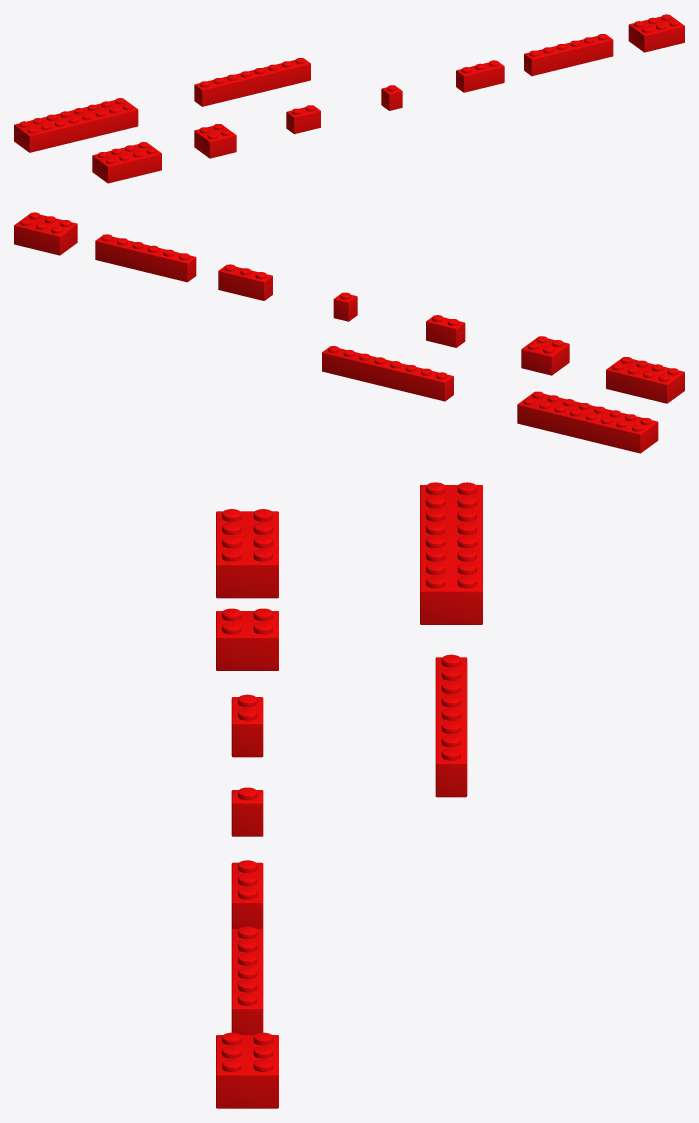
The model's file is bricks.glb.
3 renders of one model, top to bottom at view 1: azimuth 30°, elevation 25°; view 2: azimuth 150°, elevation 25°; view 3: azimuth 270°, elevation 25°, orthographic. The views are drawn at different scales.
Parts seen in each view (by area): view 1: 8x2, 8x1, 6x1, 4x2, 3x2, 3x1, 2x2, 2x1, 1x1; view 2: 8x2, 8x1, 6x1, 4x2, 3x2, 2x2, 3x1, 2x1, 1x1; view 3: 8x2, 4x2, 3x2, 8x1, 2x2, 6x1, 3x1, 2x1, 1x1.
Part boxes in pixels (bbox=[...]): 8x2: bbox=[14, 98, 138, 152]; 8x1: bbox=[194, 58, 310, 106]; 6x1: bbox=[524, 34, 613, 76]; 4x2: bbox=[92, 142, 161, 183]; 3x2: bbox=[628, 14, 684, 52]; 3x1: bbox=[456, 60, 504, 92]; 2x2: bbox=[194, 124, 236, 158]; 2x1: bbox=[286, 105, 320, 134]; 1x1: bbox=[381, 85, 402, 110]; 8x2: bbox=[517, 391, 658, 453]; 8x1: bbox=[322, 346, 453, 401]; 6x1: bbox=[95, 234, 196, 282]; 4x2: bbox=[606, 357, 684, 403]; 3x2: bbox=[14, 212, 77, 255]; 2x2: bbox=[521, 336, 569, 375]; 3x1: bbox=[218, 264, 272, 300]; 2x1: bbox=[426, 315, 465, 347]; 1x1: bbox=[333, 292, 357, 321]; 8x2: bbox=[420, 482, 482, 624]; 4x2: bbox=[216, 509, 278, 598]; 3x2: bbox=[216, 1032, 278, 1108]; 8x1: bbox=[435, 654, 467, 797]; 2x2: bbox=[216, 608, 278, 670]; 6x1: bbox=[231, 926, 263, 1034]; 3x1: bbox=[231, 860, 263, 929]; 2x1: bbox=[231, 694, 263, 757]; 1x1: bbox=[231, 787, 263, 836].
Size of the model in its own units: 6.85 by 0.2124 by 1.31.
